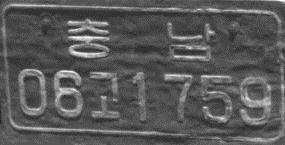0: (17, 67, 47, 117)
1: (125, 70, 156, 122)
5: (200, 73, 233, 125)
6: (52, 69, 83, 120)
7: (163, 72, 192, 122)
9: (238, 76, 272, 126)
고: (88, 70, 120, 119)
충남_D: (67, 17, 215, 61)
